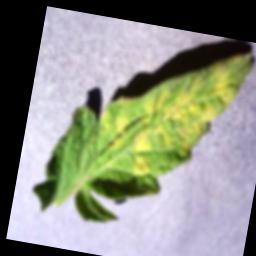Leaf_Mold: (89, 29, 256, 192)
